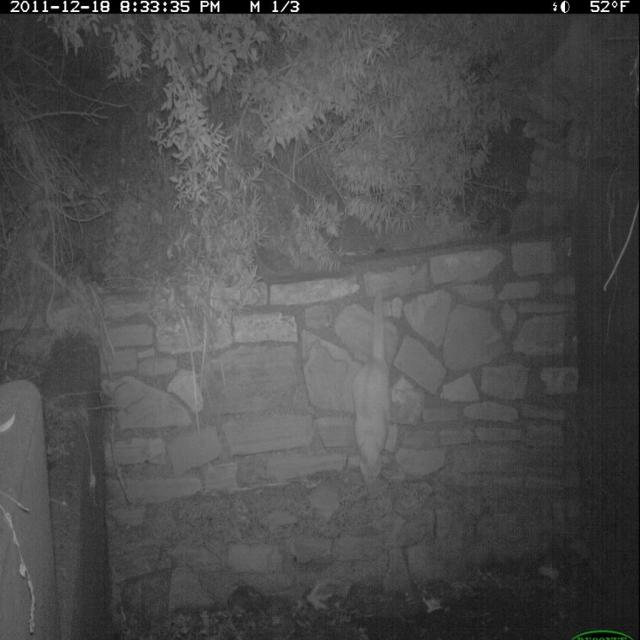cat: (347, 287, 413, 516)
